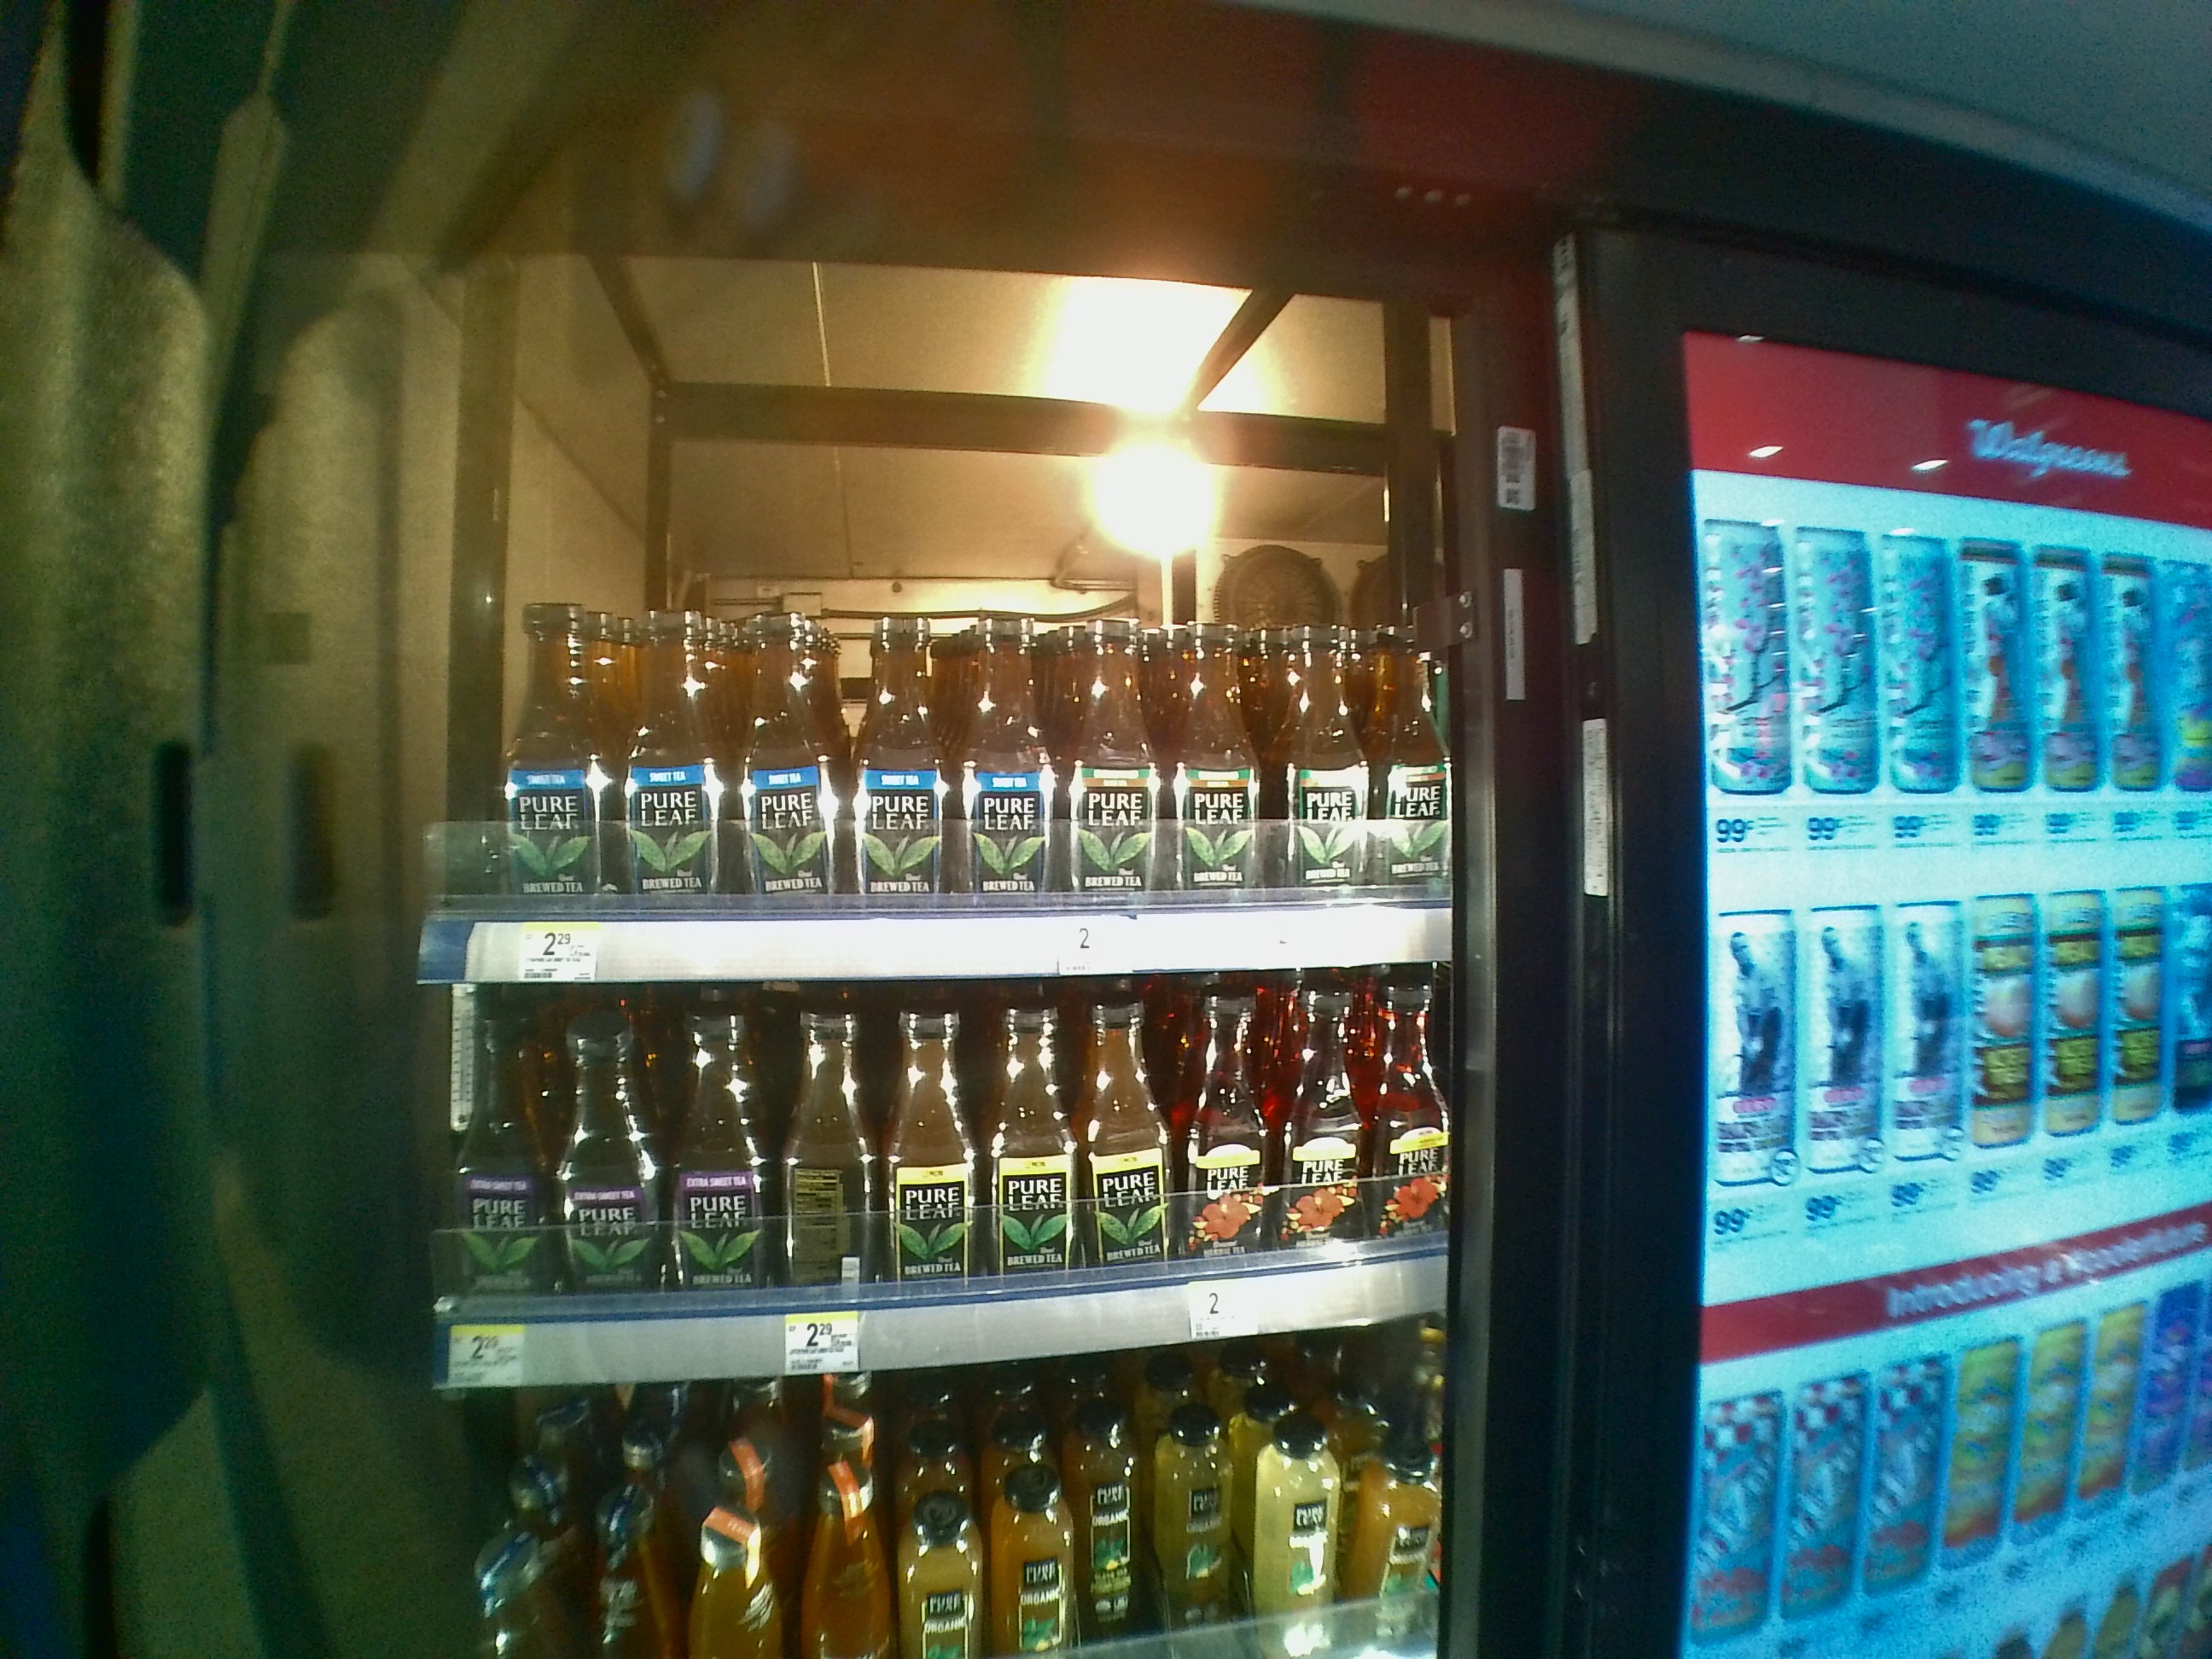shelf: (411, 335, 1453, 985), (427, 1000, 1451, 1389)
